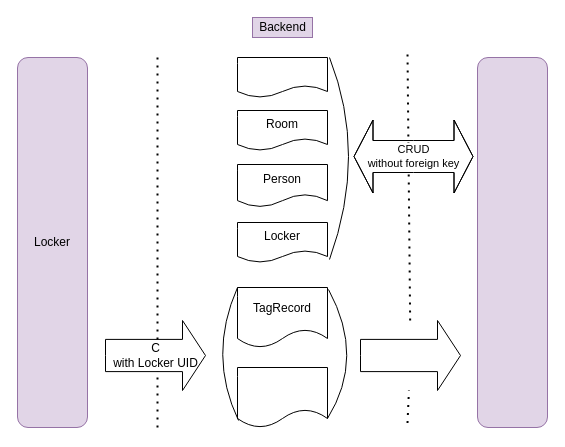
This 565x447 diagram has some shape labels left out. The shapes that lost their labels are listed below. From the top down, each one's centre as x and y in pixels, then its label:
At pixel 282 77: "Tag".
At pixel 512 242: "FrontEnd".
At pixel 410 355: "R with Locker UID".
At pixel 282 397: "DoorEvent".
